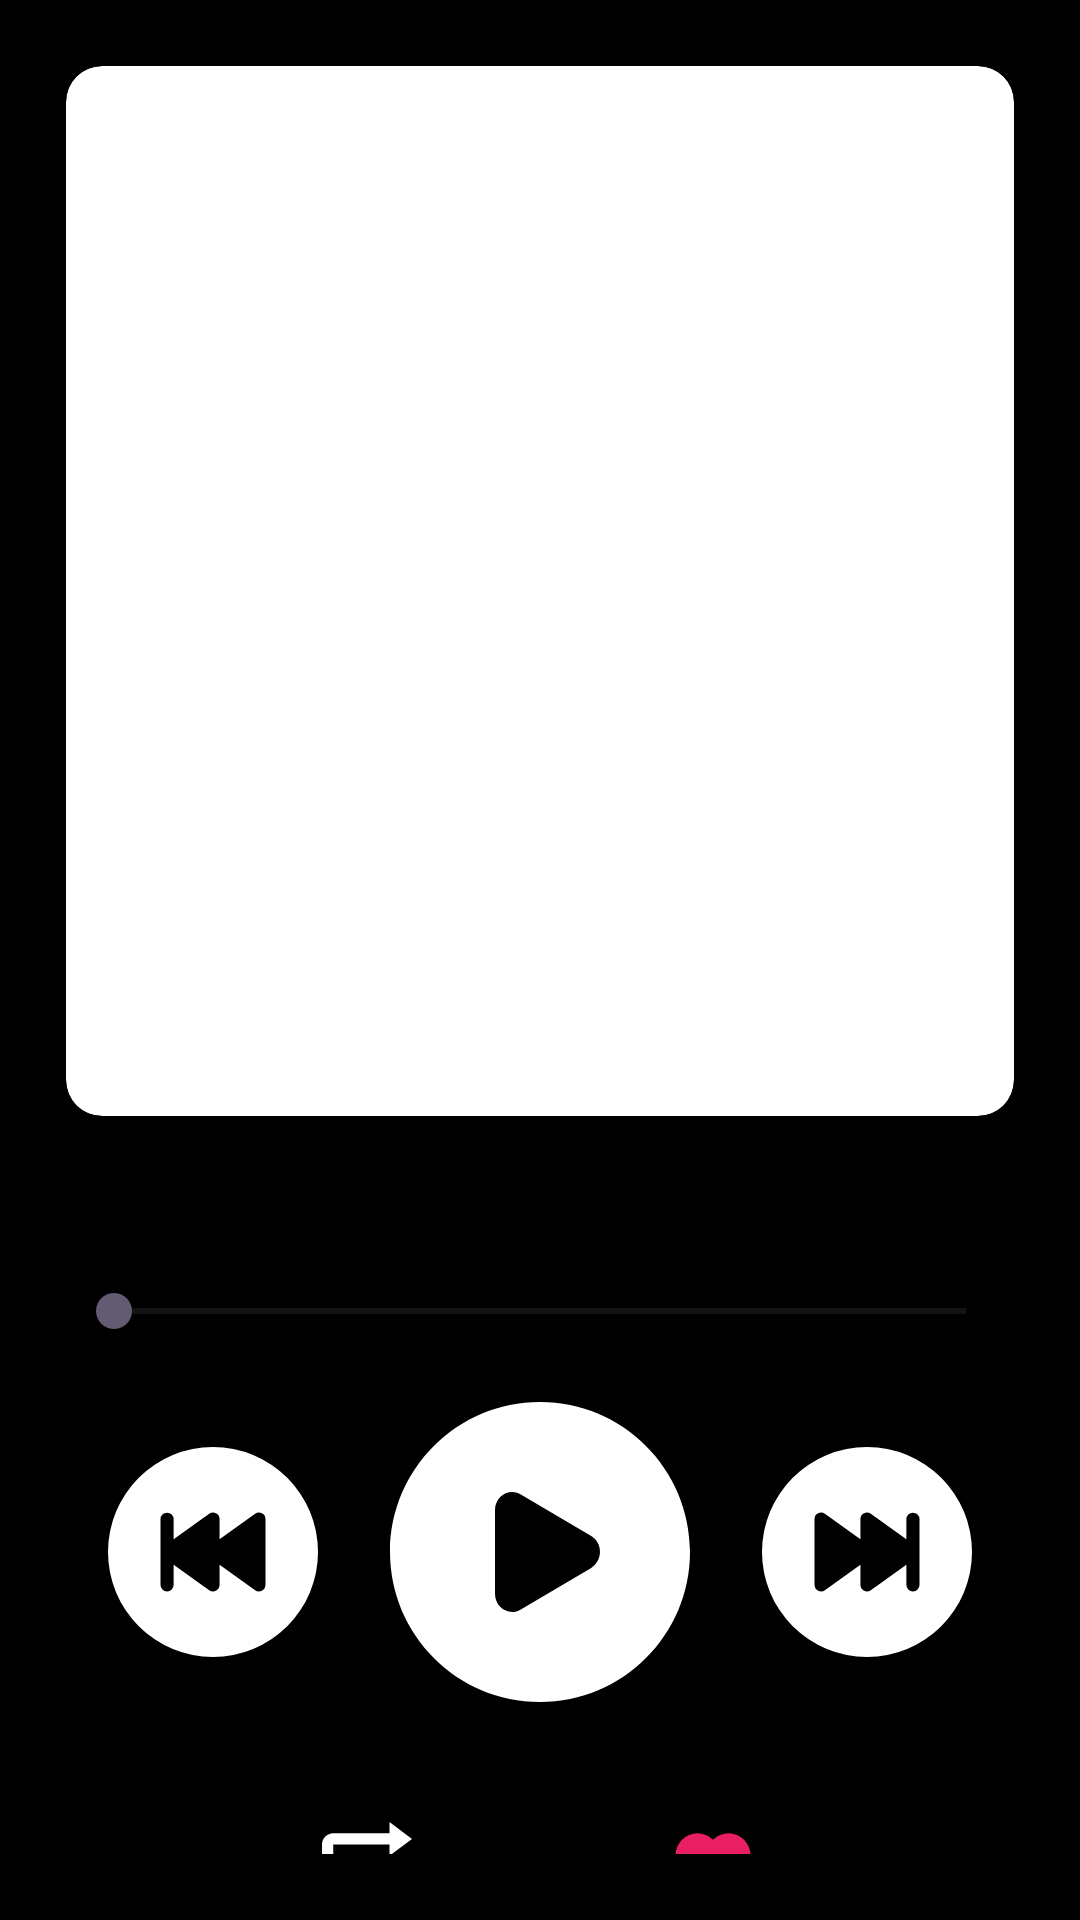

Icons on this 1080 × 1920 Android screen, each with its box as (x1, y1, x2, y2):
backward: (108, 1447, 318, 1657)
forward: (762, 1447, 972, 1657)
play: (390, 1402, 690, 1702)
